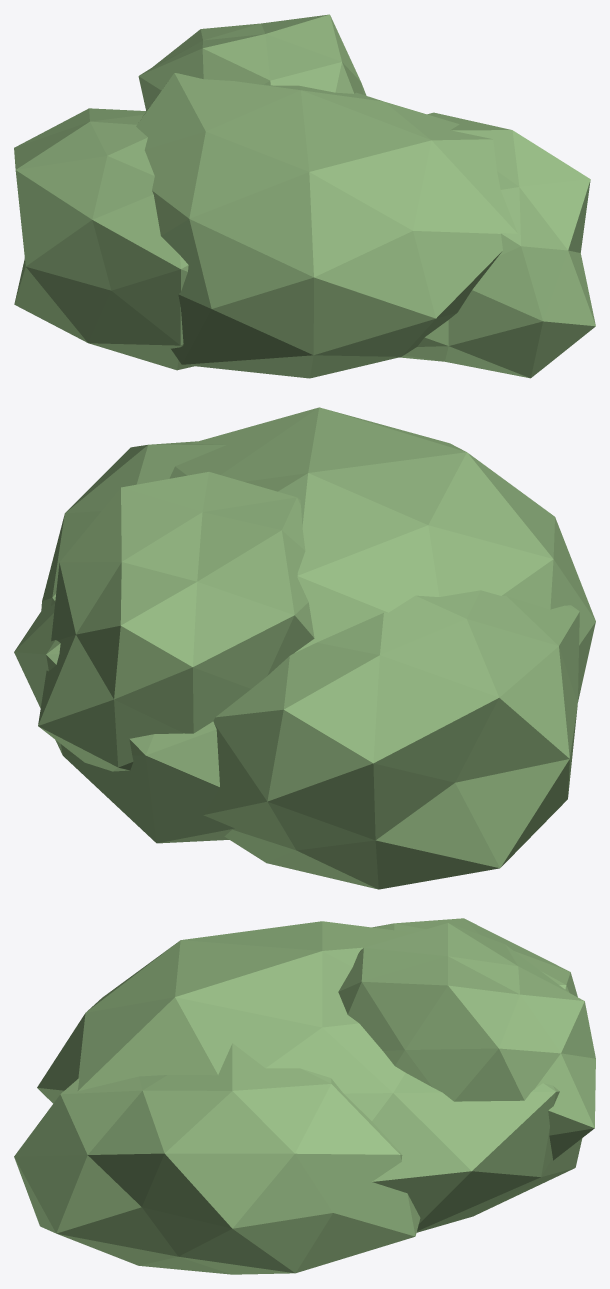
The model's file is bush.glb.
3 renders of one model, top to bottom at view 1: azimuth 30°, elevation 25°; view 2: azimuth 150°, elevation 25°; view 3: azimuth 270°, elevation 25°, orthographic. The views are drawn at different scales.
Parts seen in each view (by area): view 1: bush; view 2: bush; view 3: bush.
Part boxes in pixels (x1=…): bush: x1=14, y1=14, x2=595, y2=378; bush: x1=14, y1=407, x2=595, y2=889; bush: x1=14, y1=918, x2=595, y2=1274.
Size of the model in its own units: 2 by 1 by 2.
